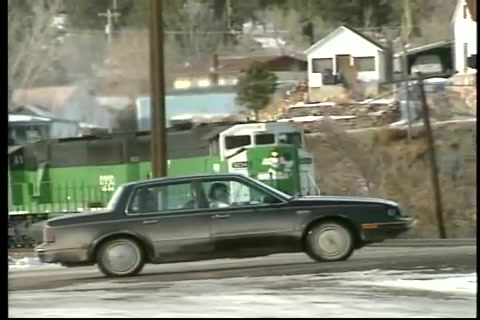train: (7, 121, 312, 213)
